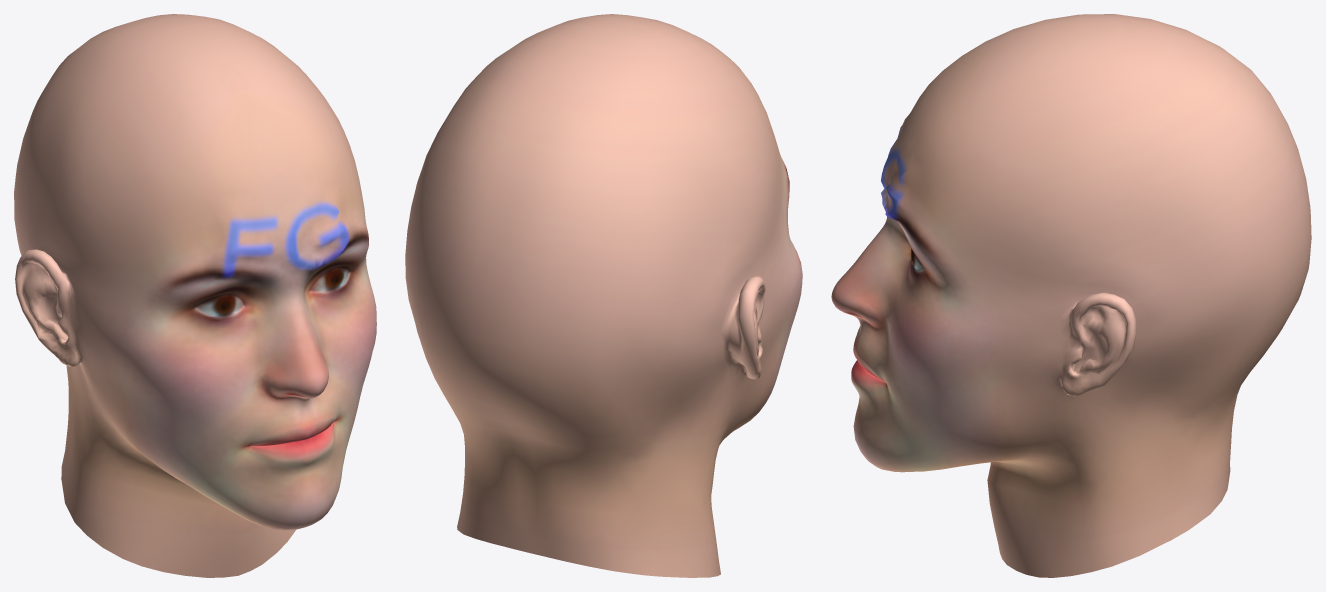
Rendered from avg_anyrace_female_01.obj.
3 renders of one model, left to right at view 1: azimuth 30°, elevation 25°; view 2: azimuth 150°, elevation 25°; view 3: azimuth 270°, elevation 25°, orthographic. The views are drawn at different scales.
Visible parts, largest first — view 1: HeadHires; view 2: HeadHires; view 3: HeadHires.
Part boxes in pixels (x1,y1,x2,y2): HeadHires: [14, 14, 376, 577]; HeadHires: [405, 14, 802, 577]; HeadHires: [831, 14, 1311, 577].
Bounding box in the file's own units: 187 × 283 × 235.
3 materials, 3 textured.
